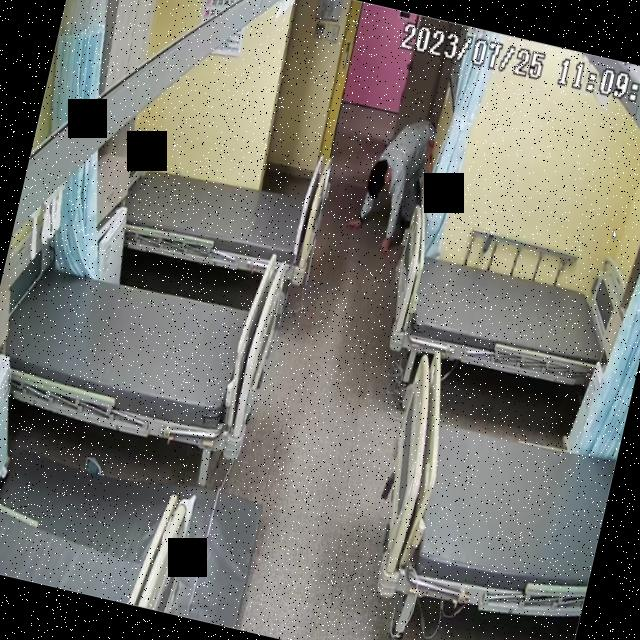bed: (362, 346, 630, 634), (0, 249, 279, 457), (378, 230, 632, 398), (117, 147, 323, 286)
fall: (342, 112, 436, 258)
patient: (342, 108, 438, 260)
